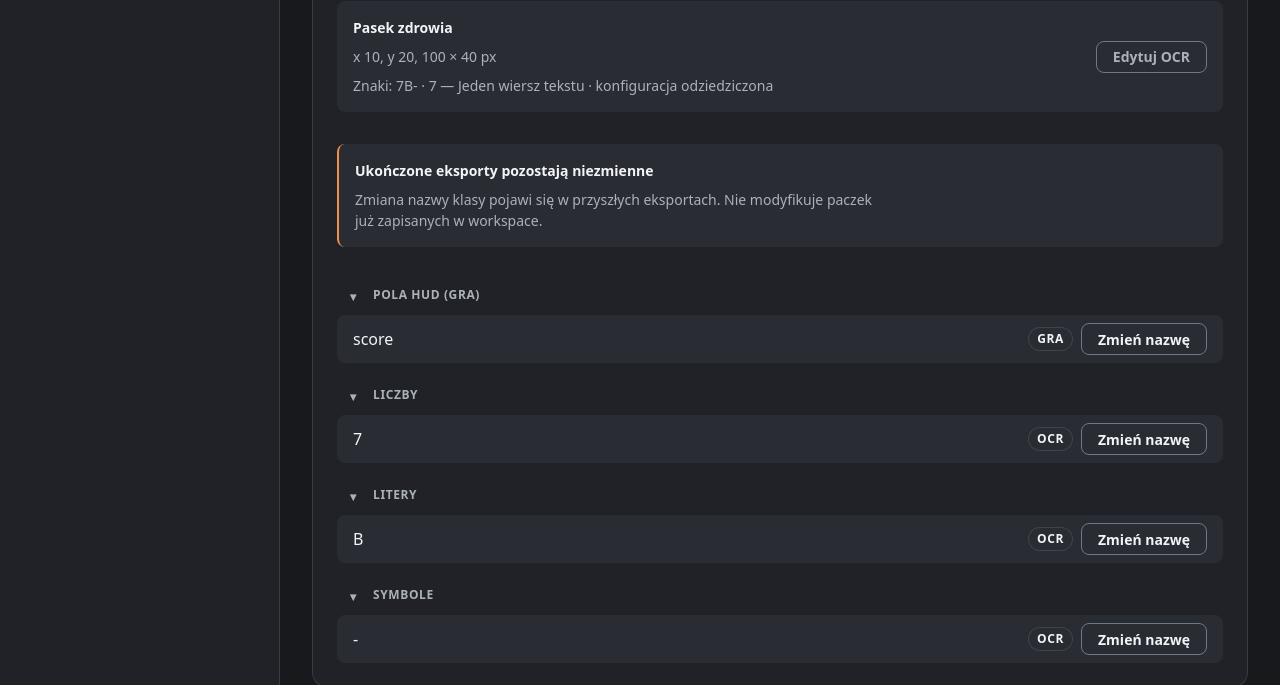
Test: profile collection and explicit selection › shows and collapses the same four class groups, including an in-kind rename warning
(page scrolled)
Expected: the element "Pola HUD (gra)" is shown, [337,279,1223,363]
Expected: the element "Liczby" is shown, [337,379,1223,463]
Click the button named "Zwiń grupę Litery".
click(353, 495)  # box [337,479,369,511]
(page scrolled)
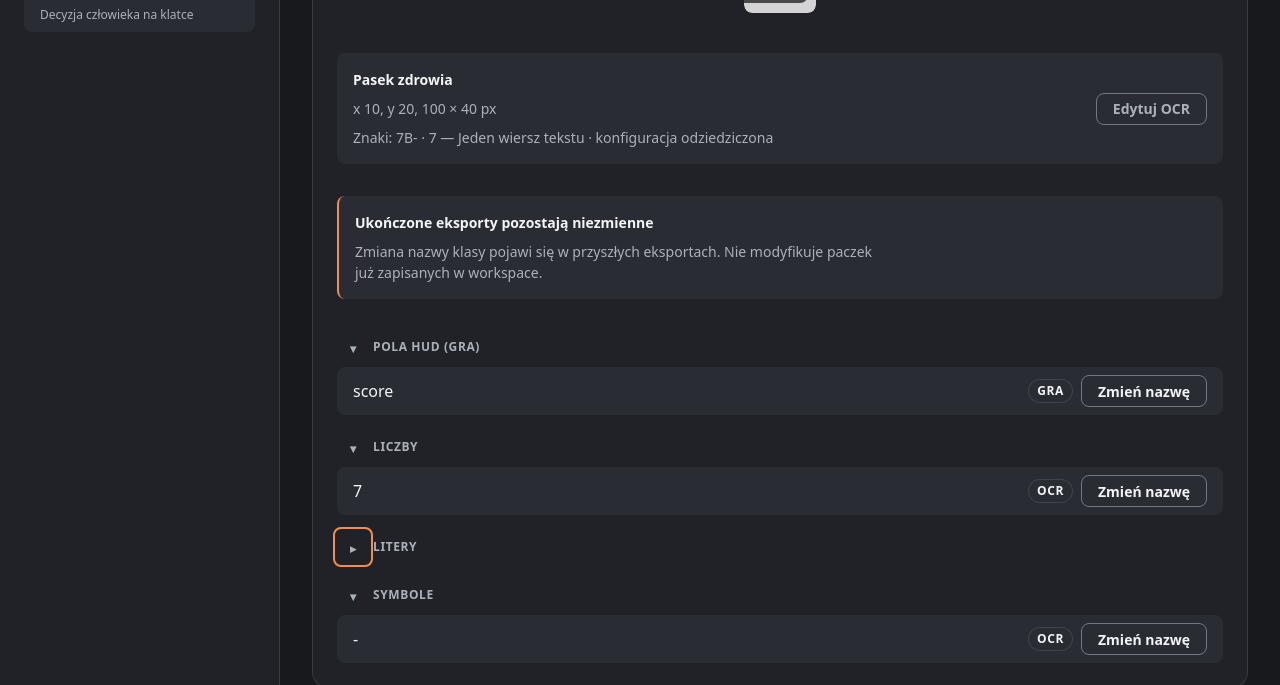
Click the button with aria-label "Zmień nazwę klasy 7".
click(1144, 491)  # box [1081,475,1207,507]
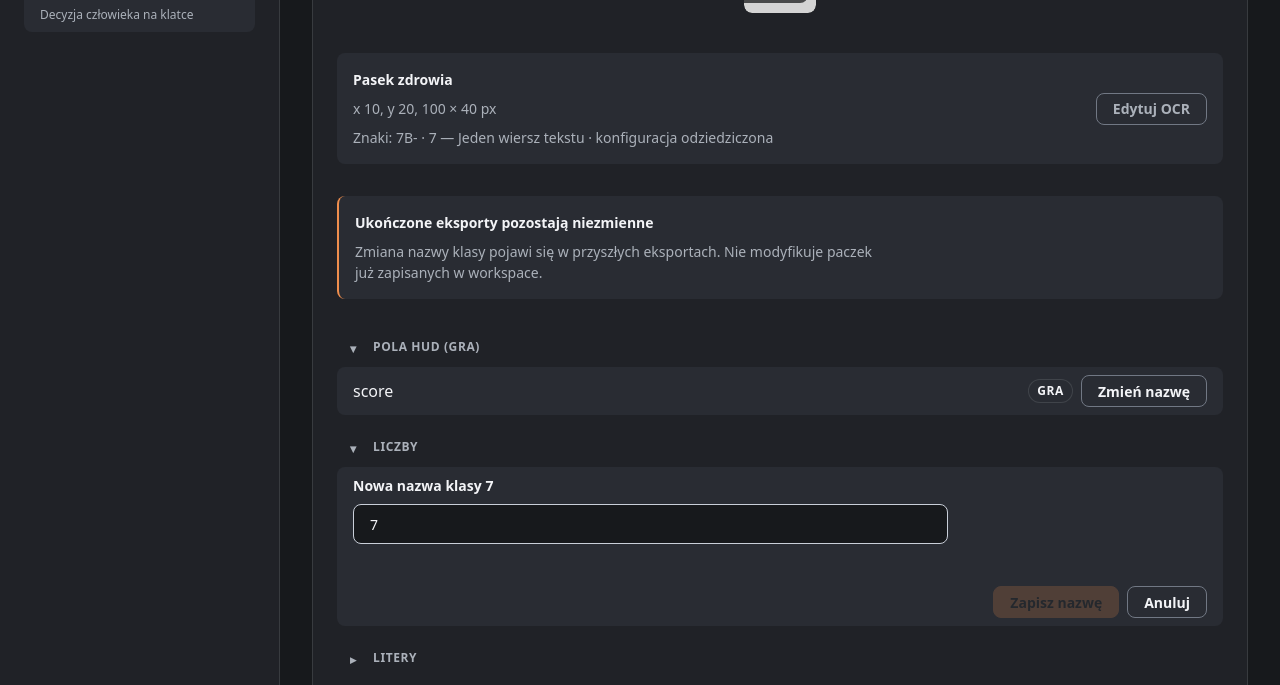
Replace the text in the field labelled "Nowa nazwa klasy 7" with "A" at (650, 524), box [353,504,948,544]
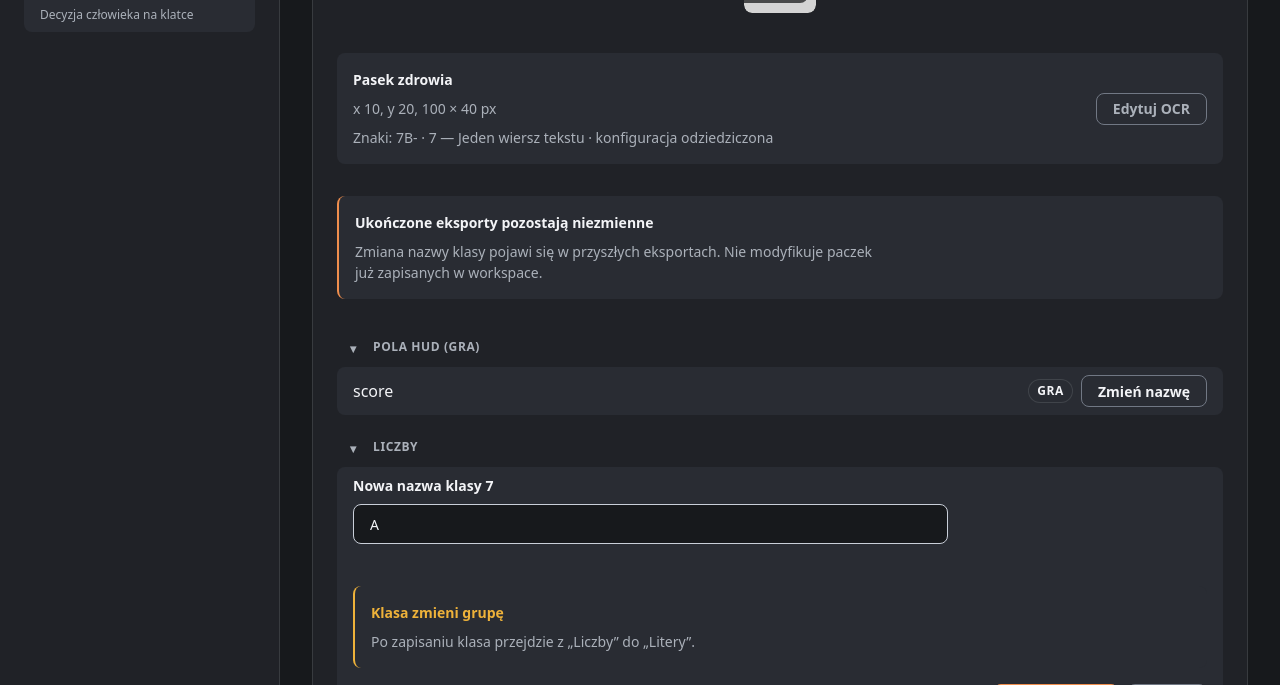
Expected: the text "Klasa zmieni grupę" shows "Liczby", [573,632,614,651]
Expected: the text "Klasa zmieni grupę" shows "Litery", [649,632,686,651]
